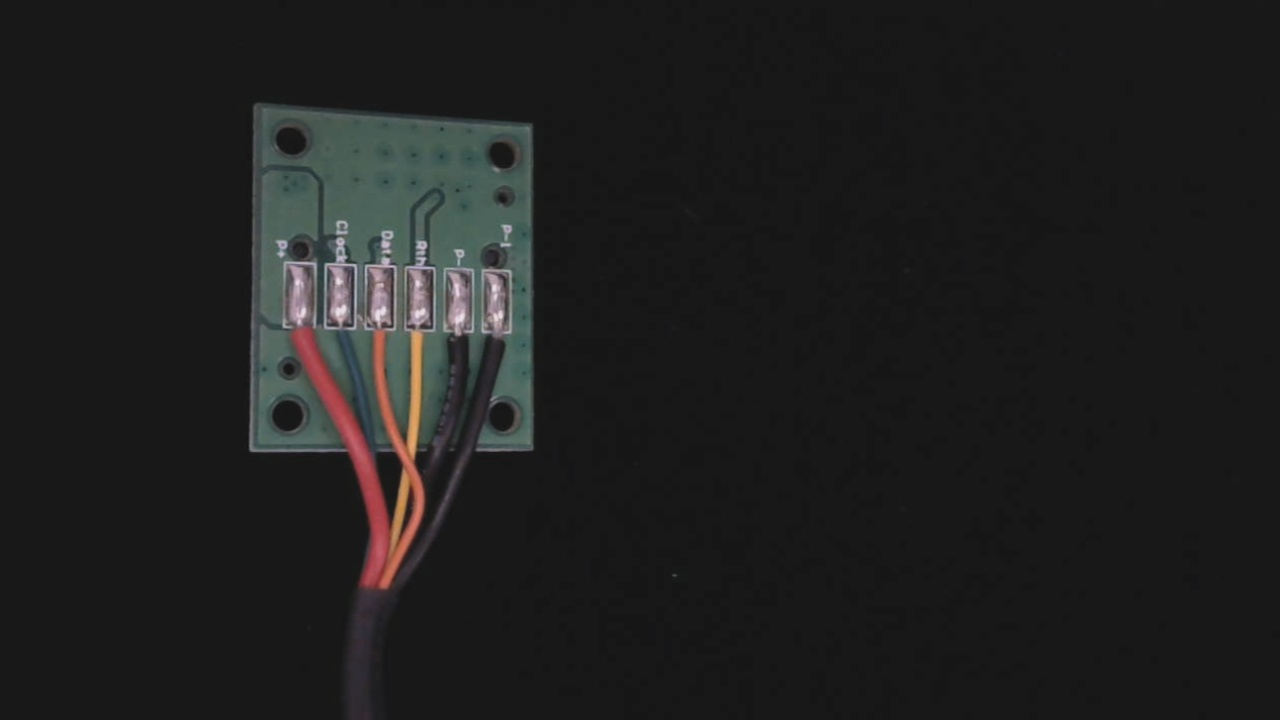Black: (449, 305, 486, 380)
Black1: (493, 310, 529, 378)
Green: (331, 299, 364, 361)
Orange: (372, 301, 407, 375)
Red: (286, 303, 319, 366)
Yellow: (411, 303, 448, 379)
